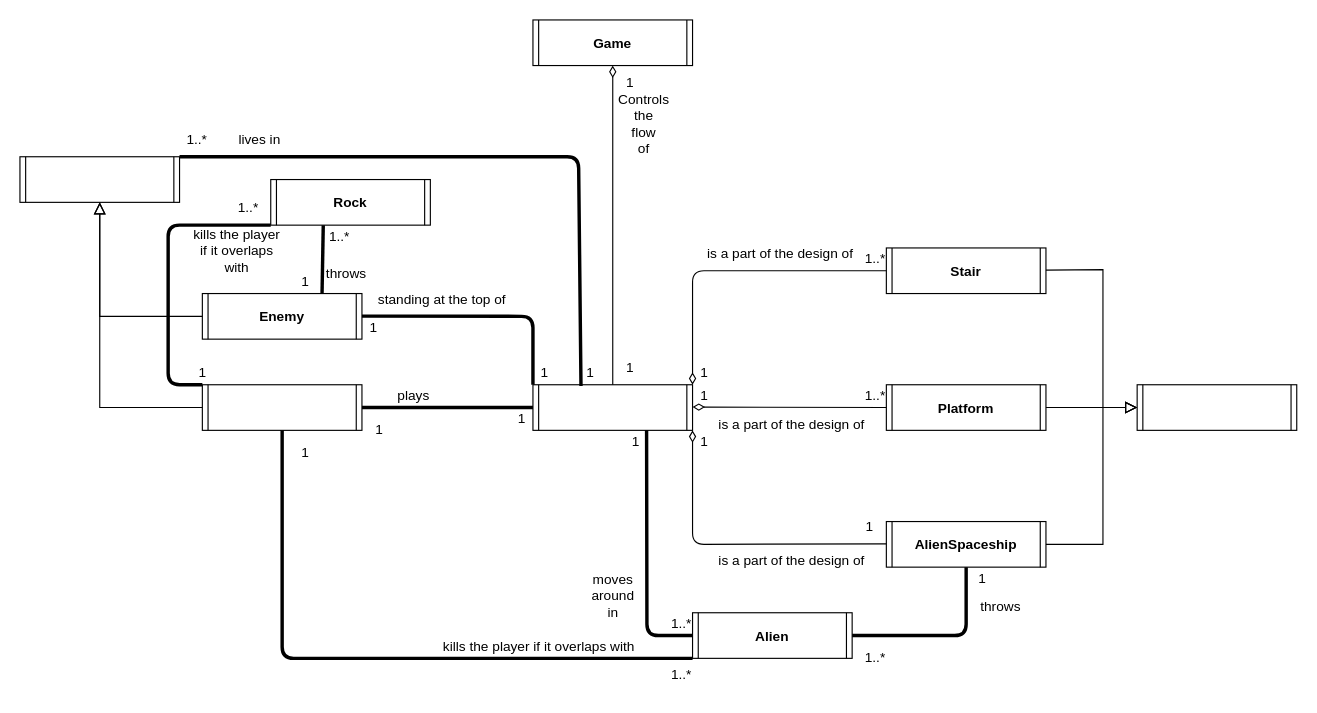
Image size: 1317x713. Some labels were removed from this diagram. The box of each missing label's shape, as (x1, y1, x2, y2) in pixels:
Character: (19, 156, 180, 202)
Level: (532, 384, 693, 430)
Obstacle: (1136, 384, 1297, 430)
Player: (201, 384, 362, 430)
